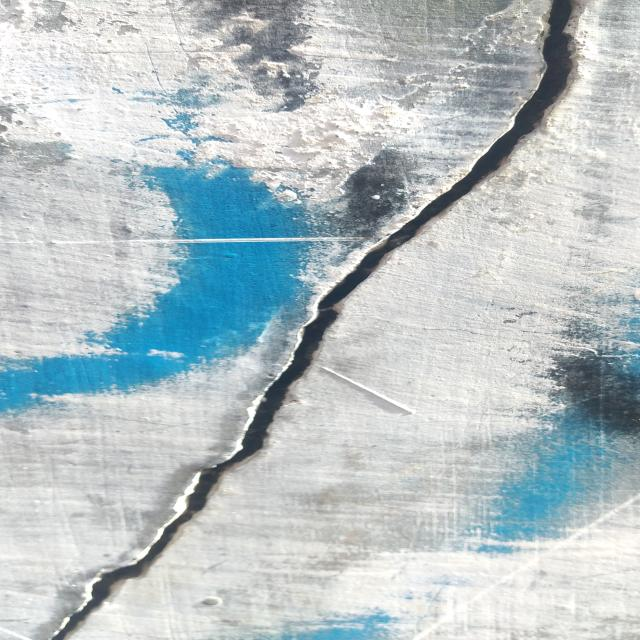Crack: (44, 3, 582, 640)
